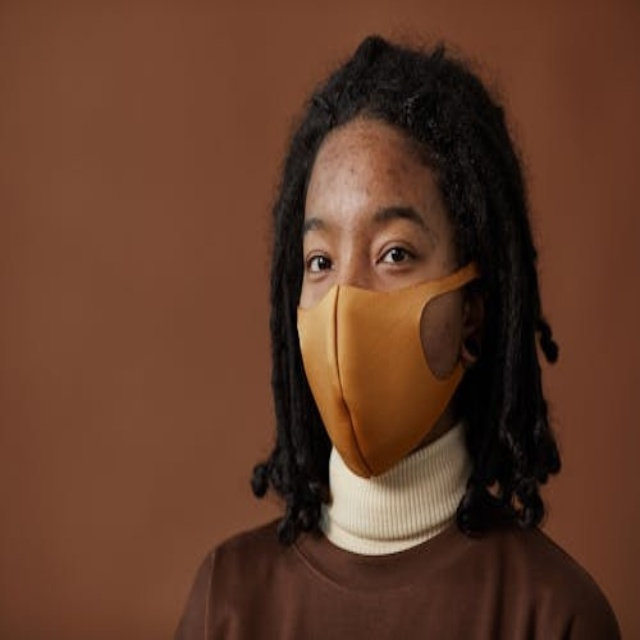Mascara: (297, 262, 484, 478)
Sin_gafas: (301, 194, 440, 284)
